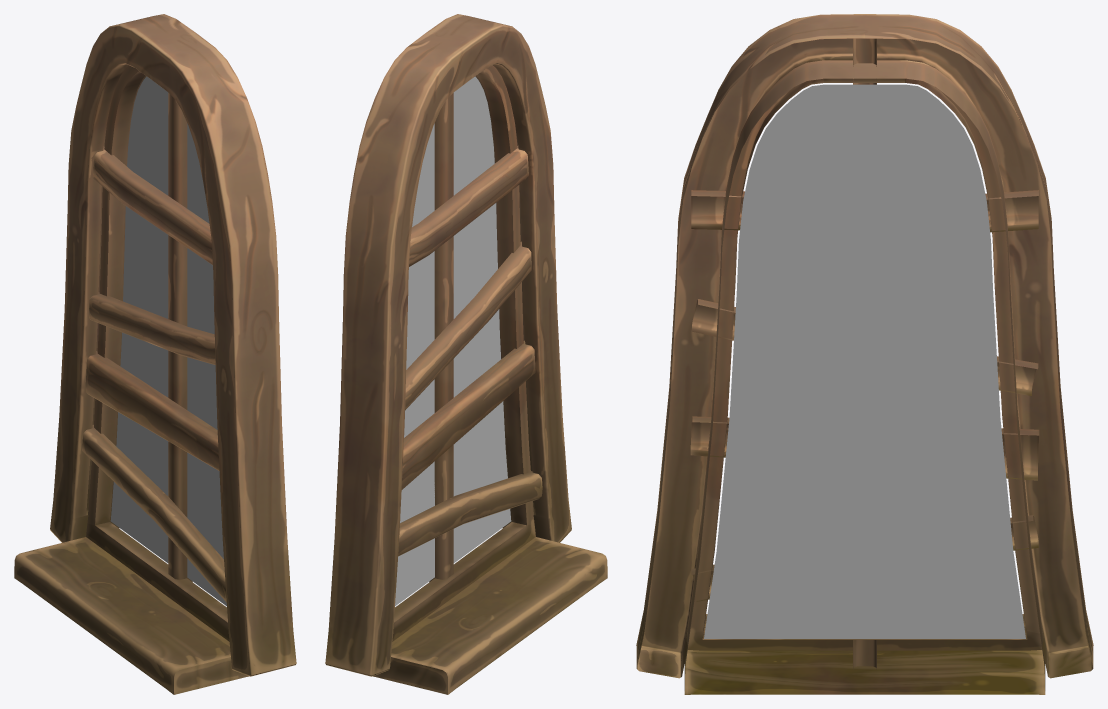
The model's file is SM_Window_05.fbx.
3 views of the same model, side by side, from view 1: azimuth 30°, elevation 25°; view 2: azimuth 150°, elevation 25°; view 3: azimuth 270°, elevation 25° (orthographic). The views are drawn at different scales.
Parts seen in each view (by area): view 1: SM_Window_05_LOD0; view 2: SM_Window_05_LOD0; view 3: SM_Window_05_LOD0.
Boxes of the visible parts, x1=… form: SM_Window_05_LOD0: x1=14, y1=14, x2=296, y2=694; SM_Window_05_LOD0: x1=325, y1=14, x2=607, y2=694; SM_Window_05_LOD0: x1=636, y1=14, x2=1093, y2=694.
Bounding box in the file's own units: 37.62 × 126 × 199.
2 materials, 1 textured.
